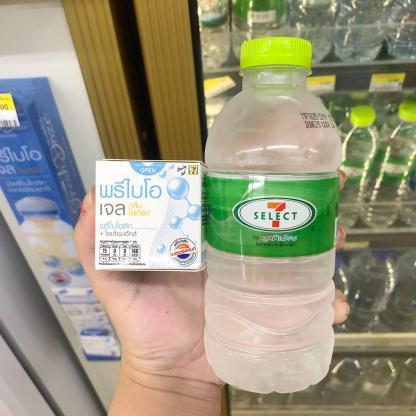plastic_bottle: (186, 36, 344, 406), (370, 97, 416, 233), (331, 101, 377, 228)
